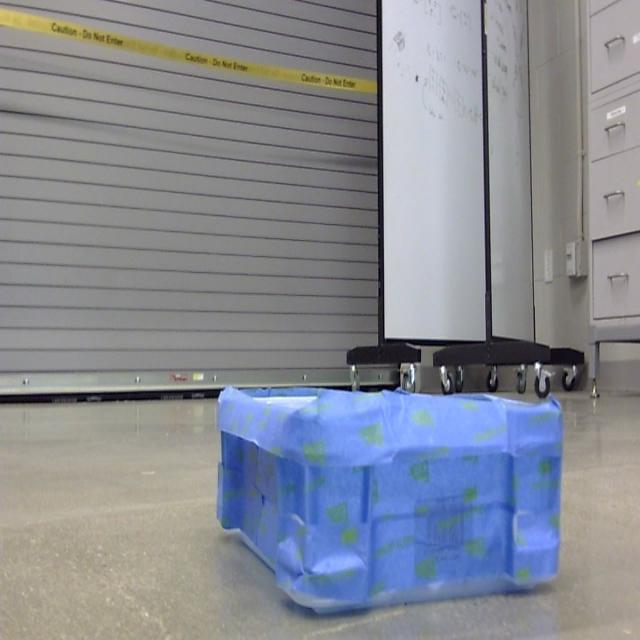bucket: (216, 386, 564, 618)
